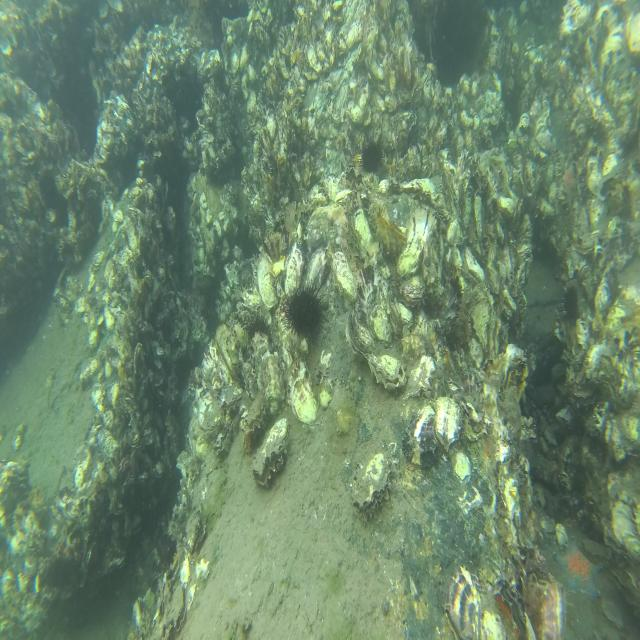echinus: (279, 276, 330, 344), (357, 134, 386, 180), (243, 310, 274, 343), (560, 285, 580, 323)
starfish: (553, 535, 603, 599), (561, 161, 580, 212)
